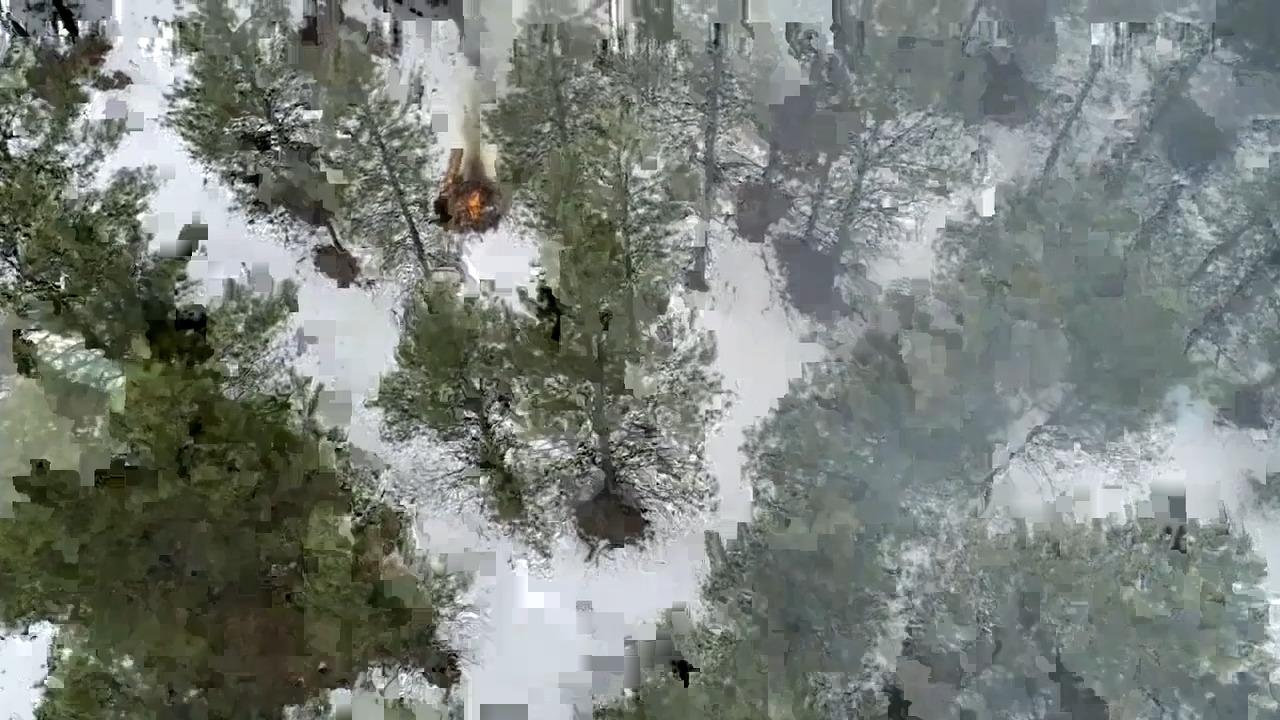fire: (456, 172, 491, 214)
